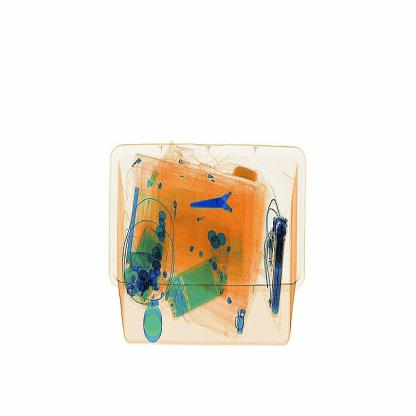gun: (182, 180, 247, 224)
